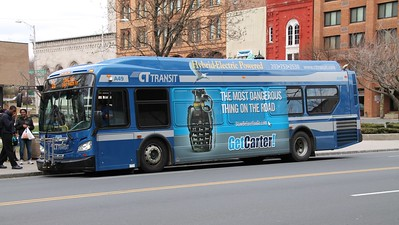bus: (35, 54, 361, 173)
